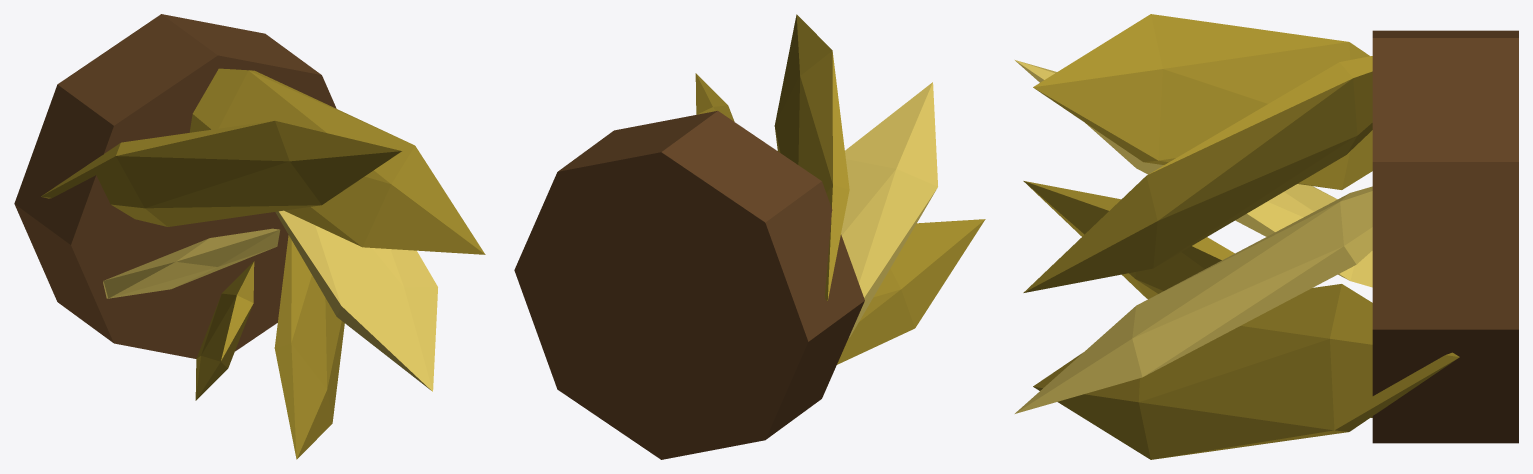
The model's file is 2_sprouting.obj.
3 views of the same model, side by side, from view 1: azimuth 30°, elevation 25°; view 2: azimuth 150°, elevation 25°; view 3: azimuth 270°, elevation 25° (orthographic). The views are drawn at different scales.
Visible parts, largest first — view 1: harralander_2_sprouting; view 2: harralander_2_sprouting; view 3: harralander_2_sprouting.
Part boxes in pixels (<box>): harralander_2_sprouting: <box>14,14,485,459</box>; harralander_2_sprouting: <box>514,14,985,459</box>; harralander_2_sprouting: <box>1015,14,1518,459</box>.
Bounding box in the file's own units: 0.12 × 0.1235 × 0.138.
